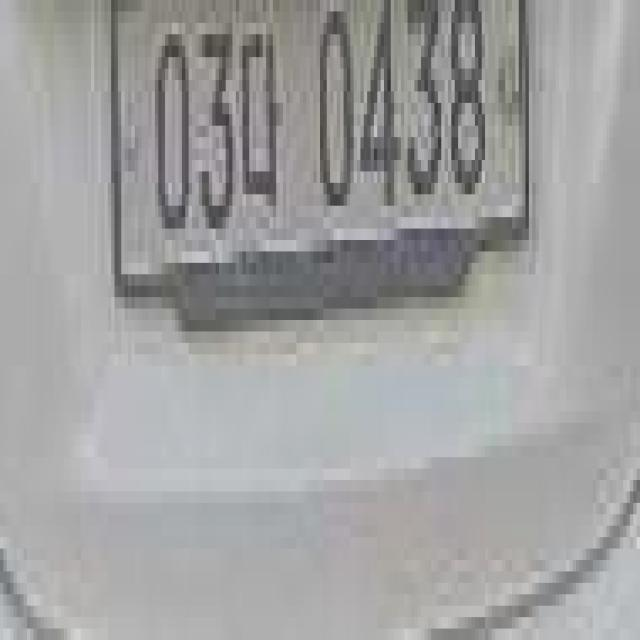illegal_plate: (106, 0, 539, 321)
